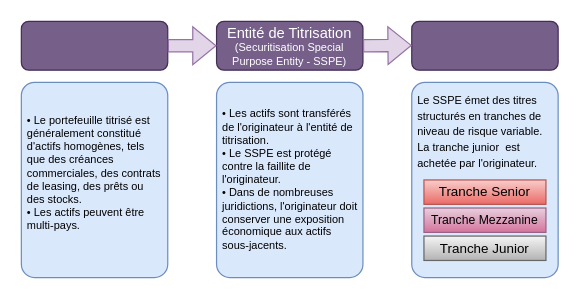
Image size: 580x299. Some labels were removed from this diagram. The centre of each missing label's shape, as x and y in pixels:
Investisseurs: the point at 484,45
Originateur: the point at 94,45
